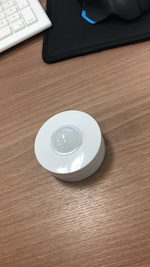bulb: (33, 109, 108, 184)
